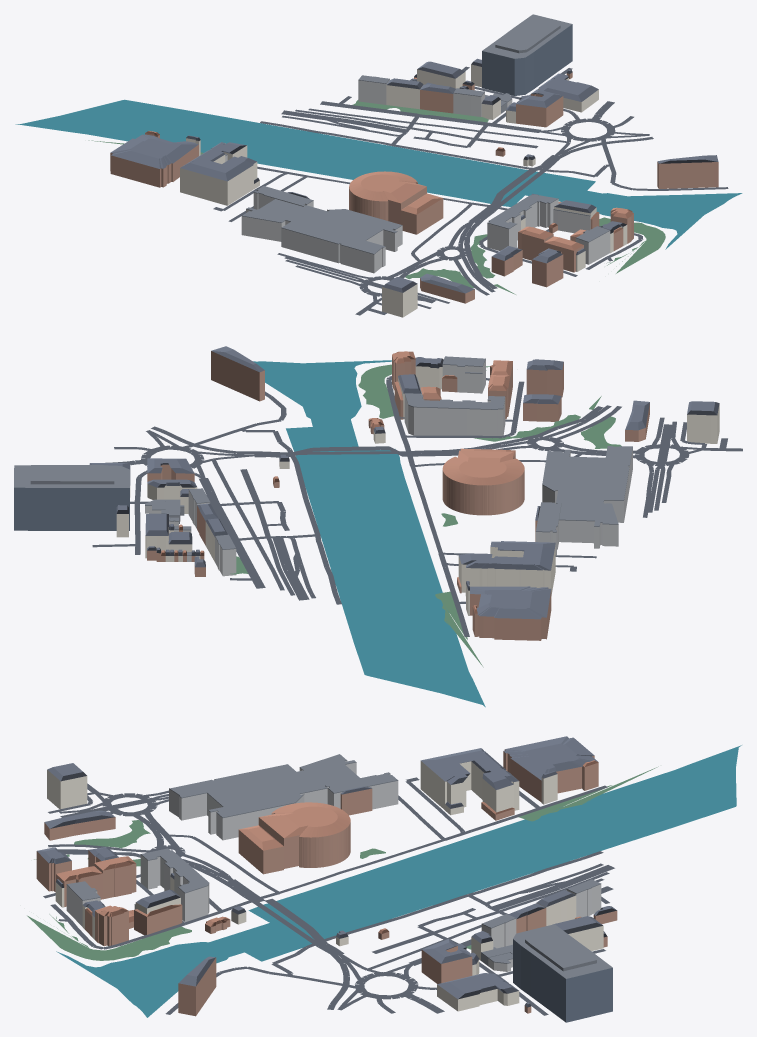
The model's file is tile_6_3_lod0.glb.
3 views of the same model, one above another, from view 1: azimuth 30°, elevation 25°; view 2: azimuth 150°, elevation 25°; view 3: azimuth 270°, elevation 25° (orthographic). The views are drawn at different scales.
Parts seen in each view (by area): view 1: TileRoot; view 2: TileRoot; view 3: TileRoot.
Boxes of the visible parts, <box> form: TileRoot: <box>15,14,742,317</box>; TileRoot: <box>14,346,742,707</box>; TileRoot: <box>27,736,741,1022</box>.
Bounding box in the file's own units: 478 × 38.47 × 530.
